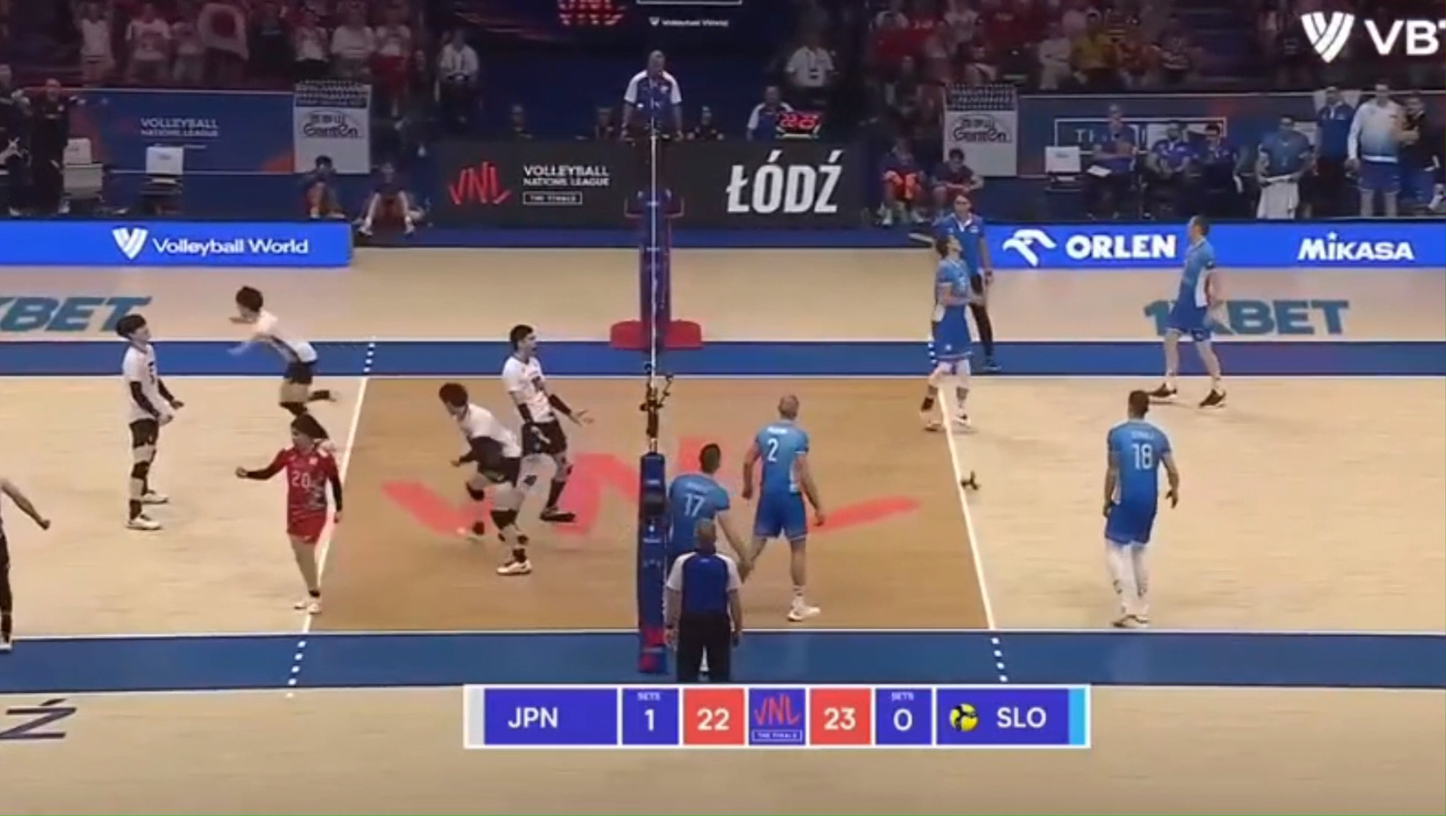ball: (960, 471, 978, 490)
player: (1102, 390, 1179, 628), (743, 394, 823, 620), (1148, 215, 1226, 407), (920, 231, 982, 429), (667, 443, 745, 574)
player 1: (235, 414, 343, 615), (438, 382, 531, 573), (501, 325, 586, 521), (116, 314, 183, 530), (234, 287, 333, 407)
referee: (665, 518, 743, 683), (936, 193, 998, 371), (623, 51, 682, 216)
